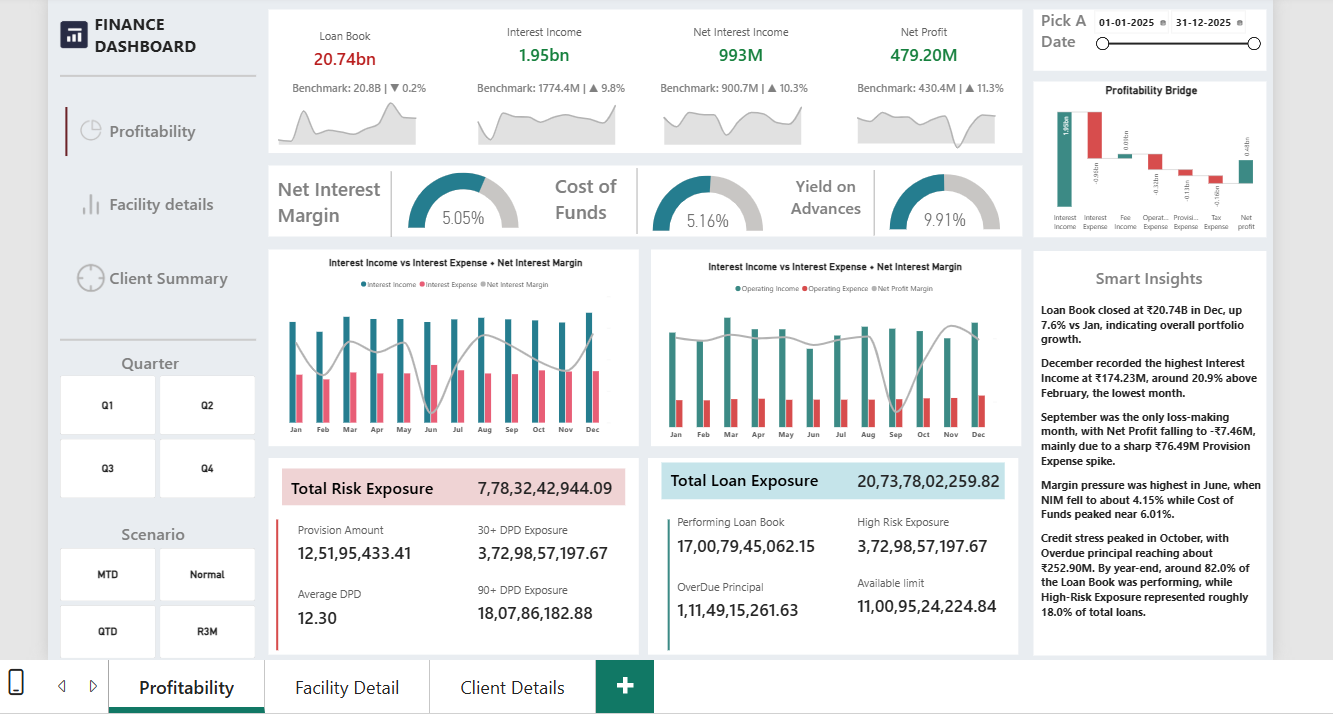

Layout of this report page (visuals, bound fields, positions):
{"tool":"powerbi","page":{"name":"Profitability","canvas":[2400,1300],"ordinal":0},"visuals":[{"type":"image","box":[0,24,102,105],"z":0},{"type":"textbox","box":[92,32,223,113],"z":1000},{"type":"shape","box":[24,120,384,72],"z":2000},{"type":"shape","box":[24,648,384,48],"z":3000},{"type":"textbox","box":[120,240,216,48],"z":4000},{"type":"textbox","box":[120,384,288,48],"z":5000},{"type":"textbox","box":[144,1030,144,48],"z":6000},{"type":"image","box":[0,192,168,144],"z":7000},{"type":"image","box":[0,336,168,144],"z":8000},{"type":"image","box":[0,480,168,144],"z":9000},{"type":"shape","box":[0,216,72,96],"z":10000},{"type":"shape","box":[432,26,1476,281],"z":11000},{"type":"shape","box":[432,333,1476,139],"z":12000},{"type":"shape","box":[432,497,725,385],"z":13000},{"type":"shape","box":[1180,497,725,385],"z":14000},{"type":"shape","box":[432,906,725,385],"z":15000},{"type":"shape","box":[1176,906,725,385],"z":16000},{"type":"shape","box":[1930,26,456,120],"z":17000},{"type":"shape","box":[1930,168,456,305],"z":18000},{"type":"shape","box":[1930,498,456,792],"z":19000},{"type":"advancedSlicerVisual","fields":{"Values":["Calculation group.Time Period"]},"box":[24,1080,384,216],"z":20000},{"type":"textbox","box":[120,528,264,48],"z":21000},{"type":"textbox","box":[144,696,144,48],"z":22000},{"type":"advancedSlicerVisual","fields":{"Values":["Date_dim.Quarter"]},"box":[24,744,384,240],"z":23000},{"type":"cardVisual","fields":{"Data":["Z_Measures.Loan Book"]},"box":[448,32,264,144],"z":24000},{"type":"cardVisual","fields":{"Data":["Z_Measures.Interest Income"]},"box":[840,24,264,144],"z":25000},{"type":"cardVisual","fields":{"Data":["Z_Measures.Net Interest Income"]},"box":[1224,24,264,144],"z":26000},{"type":"cardVisual","fields":{"Data":["Z_Measures.Net Profit"]},"box":[1584,24,264,144],"z":27000},{"type":"slicer","fields":{"Values":["Date_dim.Date"]},"box":[2040,24,336,120],"z":28000},{"type":"cardVisual","fields":{"Data":["Z_Measures.Loan Book Benchmark display"]},"box":[448,96,320,160],"z":29000},{"type":"cardVisual","fields":{"Data":["Z_Measures.Interest income Benchmark Display"]},"box":[792,96,384,160],"z":30000},{"type":"cardVisual","fields":{"Data":["Z_Measures.Net Profit Benchmark Display"]},"box":[1536,96,384,160],"z":31000},{"type":"cardVisual","fields":{"Data":["Z_Measures.Net Interest Income Benchmark Display"]},"box":[1152,96,384,160],"z":32000},{"type":"areaChart","fields":{"Category":["Date_dim.Month"],"Y":["Z_Measures.Loan Book"]},"box":[426,178,320,128],"z":33000},{"type":"areaChart","fields":{"Category":["Date_dim.Month"],"Y":["Z_Measures.Interest Income"]},"box":[817,178,320,128],"z":34000},{"type":"areaChart","fields":{"Category":["Date_dim.Month"],"Y":["Z_Measures.Net Interest Income"]},"box":[1182,178,320,128],"z":35000},{"type":"areaChart","fields":{"Category":["Date_dim.Month"],"Y":["Z_Measures.Net Profit"]},"box":[1558,200,320,128],"z":36000},{"type":"gauge","fields":{"Y":["Z_Measures.Net Interest Margin"]},"box":[637,332,352,138],"z":37000},{"type":"textbox","box":[448,352,224,128],"z":38000},{"type":"shape","box":[608,343,128,128],"z":39000},{"type":"gauge","fields":{"Y":["Z_Measures.Cost of Funds"]},"box":[1116,338,352,138],"z":40000},{"type":"shape","box":[1056,338,192,128],"z":41000},{"type":"textbox","box":[992,348,160,128],"z":42000},{"type":"shape","box":[1553,340,128,128],"z":43000},{"type":"textbox","box":[1440,350,168,96],"z":44000},{"type":"gauge","fields":{"Y":["Z_Measures.Yeild on Advances"]},"box":[1580,335,352,138],"z":45000},{"type":"lineClusteredColumnComboChart","title":"Interest Income vs Interest Expense + Net Interest Margin","fields":{"Category":["Date_dim.Month"],"Y":["Z_Measures.Interest Income","Z_Measures.Interest Expense"],"Y2":["Z_Measures.Net Interest Margin"]},"box":[432,497,729,384],"z":46000},{"type":"lineClusteredColumnComboChart","title":"Interest Income vs Interest Expense + Net Interest Margin","fields":{"Category":["Date_dim.Month"],"Y":["Z_Measures.Operating Income","Z_Measures.Operating Expence"],"Y2":["Z_Measures.Net Profit Margin"]},"box":[1176,504,729,384],"z":47000},{"type":"waterfallChart","title":"Profitability Bridge ","fields":{"Category":["Profitability bridge.Stage"],"Y":["Profitability bridge.Profitability Bridge value"]},"box":[1920,160,480,320],"z":48000},{"type":"shape","box":[1200,912,672,72],"z":49000},{"type":"textbox","box":[1220,924,312,48],"z":50000},{"type":"cardVisual","fields":{"Data":["Z_Measures.Performing Loan Book"]},"box":[1216,992,320,128],"z":51000},{"type":"shape","box":[1152,1024,128,256],"z":52000},{"type":"cardVisual","fields":{"Data":["Z_Measures.OverDue Principal"]},"box":[1216,1120,320,128],"z":53000},{"type":"cardVisual","fields":{"Data":["Z_Measures.High Risk Exposure"]},"box":[1568,992,320,128],"z":54000},{"type":"cardVisual","fields":{"Data":["Z_Measures.Available limit"]},"box":[1568,1120,320,128],"z":55000},{"type":"cardVisual","fields":{"Data":["Z_Measures.Loan Book"]},"box":[1568,896,320,96],"z":56000},{"type":"shape","box":[457,926.4,672,72],"z":57000},{"type":"textbox","box":[477,938.4,312,48],"z":58000},{"type":"cardVisual","fields":{"Data":["Z_Measures.Provision Amount"]},"box":[473,1006.4,320,128],"z":59000},{"type":"cardVisual","fields":{"Data":["Z_Measures.Average DPD"]},"box":[473,1134.4,320,128],"z":60000},{"type":"cardVisual","fields":{"Data":["Z_Measures.30+ DPD Exposure"]},"box":[825,1006.4,320,128],"z":61000},{"type":"cardVisual","fields":{"Data":["Z_Measures.90+ DPD Exposure"]},"box":[825,1134.4,320,128],"z":62000},{"type":"cardVisual","fields":{"Data":["Z_Measures.Total Risk Exposure"]},"box":[825,910.4,320,96],"z":63000},{"type":"shape","box":[384,1024,128,256],"z":64000},{"type":"textbox","box":[1944,528,432,48],"z":65000},{"type":"textbox","box":[1944,600,432,672],"z":66000},{"type":"textbox","box":[1944,24,120,120],"z":67000}]}

Visuals, with their boxes on the page's 2400x1300 design canvas (x1, y1, x2, y2). These are canvas units, not pixel positions in the 1333x714 screenshot, which may show the page scaled, cropped or inside an application window:
image: locate(0, 24, 102, 129)
textbox: locate(92, 32, 315, 145)
shape: locate(24, 120, 408, 192)
shape: locate(24, 648, 408, 696)
textbox: locate(120, 240, 336, 288)
textbox: locate(120, 384, 408, 432)
textbox: locate(144, 1030, 288, 1078)
image: locate(0, 192, 168, 336)
image: locate(0, 336, 168, 480)
image: locate(0, 480, 168, 624)
shape: locate(0, 216, 72, 312)
shape: locate(432, 26, 1908, 307)
shape: locate(432, 333, 1908, 472)
shape: locate(432, 497, 1157, 882)
shape: locate(1180, 497, 1905, 882)
shape: locate(432, 906, 1157, 1291)
shape: locate(1176, 906, 1901, 1291)
shape: locate(1930, 26, 2386, 146)
shape: locate(1930, 168, 2386, 473)
shape: locate(1930, 498, 2386, 1290)
advancedSlicerVisual - Calculation group.Time Period: locate(24, 1080, 408, 1296)
textbox: locate(120, 528, 384, 576)
textbox: locate(144, 696, 288, 744)
advancedSlicerVisual - Date_dim.Quarter: locate(24, 744, 408, 984)
cardVisual - Z_Measures.Loan Book: locate(448, 32, 712, 176)
cardVisual - Z_Measures.Interest Income: locate(840, 24, 1104, 168)
cardVisual - Z_Measures.Net Interest Income: locate(1224, 24, 1488, 168)
cardVisual - Z_Measures.Net Profit: locate(1584, 24, 1848, 168)
slicer - Date_dim.Date: locate(2040, 24, 2376, 144)
cardVisual - Z_Measures.Loan Book Benchmark display: locate(448, 96, 768, 256)
cardVisual - Z_Measures.Interest income Benchmark Display: locate(792, 96, 1176, 256)
cardVisual - Z_Measures.Net Profit Benchmark Display: locate(1536, 96, 1920, 256)
cardVisual - Z_Measures.Net Interest Income Benchmark Display: locate(1152, 96, 1536, 256)
areaChart - Date_dim.Month x Z_Measures.Loan Book: locate(426, 178, 746, 306)
areaChart - Date_dim.Month x Z_Measures.Interest Income: locate(817, 178, 1137, 306)
areaChart - Date_dim.Month x Z_Measures.Net Interest Income: locate(1182, 178, 1502, 306)
areaChart - Date_dim.Month x Z_Measures.Net Profit: locate(1558, 200, 1878, 328)
gauge - Z_Measures.Net Interest Margin: locate(637, 332, 989, 470)
textbox: locate(448, 352, 672, 480)
shape: locate(608, 343, 736, 471)
gauge - Z_Measures.Cost of Funds: locate(1116, 338, 1468, 476)
shape: locate(1056, 338, 1248, 466)
textbox: locate(992, 348, 1152, 476)
shape: locate(1553, 340, 1681, 468)
textbox: locate(1440, 350, 1608, 446)
gauge - Z_Measures.Yeild on Advances: locate(1580, 335, 1932, 473)
"Interest Income vs Interest Expense + Net Interest Margin" lineClusteredColumnComboChart: locate(432, 497, 1161, 881)
"Interest Income vs Interest Expense + Net Interest Margin" lineClusteredColumnComboChart: locate(1176, 504, 1905, 888)
"Profitability Bridge " waterfallChart: locate(1920, 160, 2400, 480)
shape: locate(1200, 912, 1872, 984)
textbox: locate(1220, 924, 1532, 972)
cardVisual - Z_Measures.Performing Loan Book: locate(1216, 992, 1536, 1120)
shape: locate(1152, 1024, 1280, 1280)
cardVisual - Z_Measures.OverDue Principal: locate(1216, 1120, 1536, 1248)
cardVisual - Z_Measures.High Risk Exposure: locate(1568, 992, 1888, 1120)
cardVisual - Z_Measures.Available limit: locate(1568, 1120, 1888, 1248)
cardVisual - Z_Measures.Loan Book: locate(1568, 896, 1888, 992)
shape: locate(457, 926, 1129, 998)
textbox: locate(477, 938, 789, 986)
cardVisual - Z_Measures.Provision Amount: locate(473, 1006, 793, 1134)
cardVisual - Z_Measures.Average DPD: locate(473, 1134, 793, 1262)
cardVisual - Z_Measures.30+ DPD Exposure: locate(825, 1006, 1145, 1134)
cardVisual - Z_Measures.90+ DPD Exposure: locate(825, 1134, 1145, 1262)
cardVisual - Z_Measures.Total Risk Exposure: locate(825, 910, 1145, 1006)
shape: locate(384, 1024, 512, 1280)
textbox: locate(1944, 528, 2376, 576)
textbox: locate(1944, 600, 2376, 1272)
textbox: locate(1944, 24, 2064, 144)
